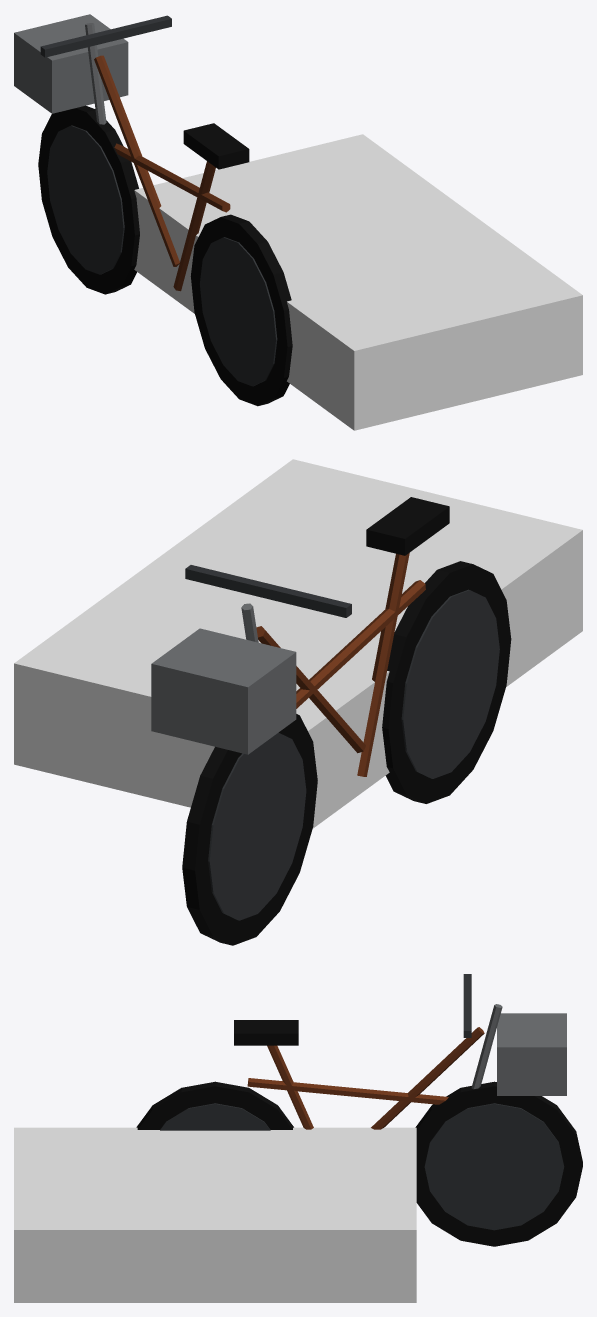
Rendered from Bicycle.fbx.
3 views of the same model, one above another, from view 1: azimuth 30°, elevation 25°; view 2: azimuth 150°, elevation 25°; view 3: azimuth 270°, elevation 25° (orthographic). The views are drawn at different scales.
Parts seen in each view (by area): view 1: COL_Bicycle_0, Bicycle; view 2: COL_Bicycle_0, Bicycle; view 3: COL_Bicycle_0, Bicycle.
Part boxes in pixels (bbox=[...]): COL_Bicycle_0: bbox=[134, 134, 582, 430]; Bicycle: bbox=[14, 14, 292, 406]; COL_Bicycle_0: bbox=[14, 459, 582, 828]; Bicycle: bbox=[151, 497, 511, 945]; COL_Bicycle_0: bbox=[14, 1127, 416, 1302]; Bicycle: bbox=[136, 974, 582, 1246].
Bounding box in the file's own units: 1.15 × 0.995 × 2.12.
